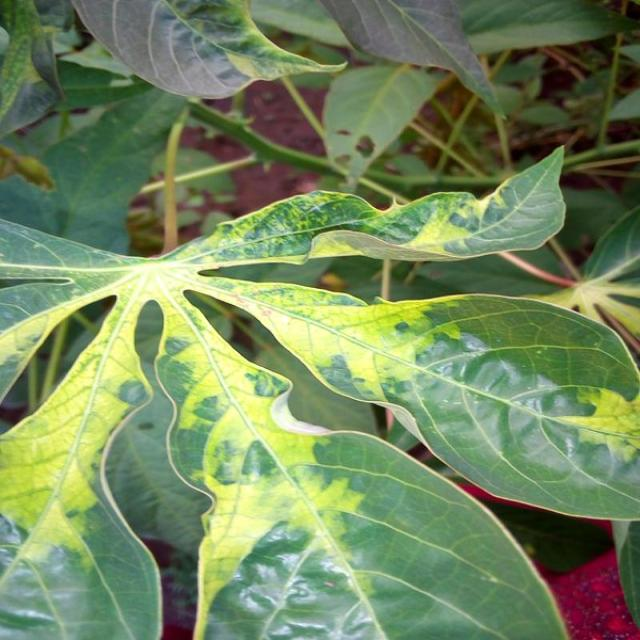cassava leaf: (0, 145, 638, 638), (182, 272, 638, 523)
